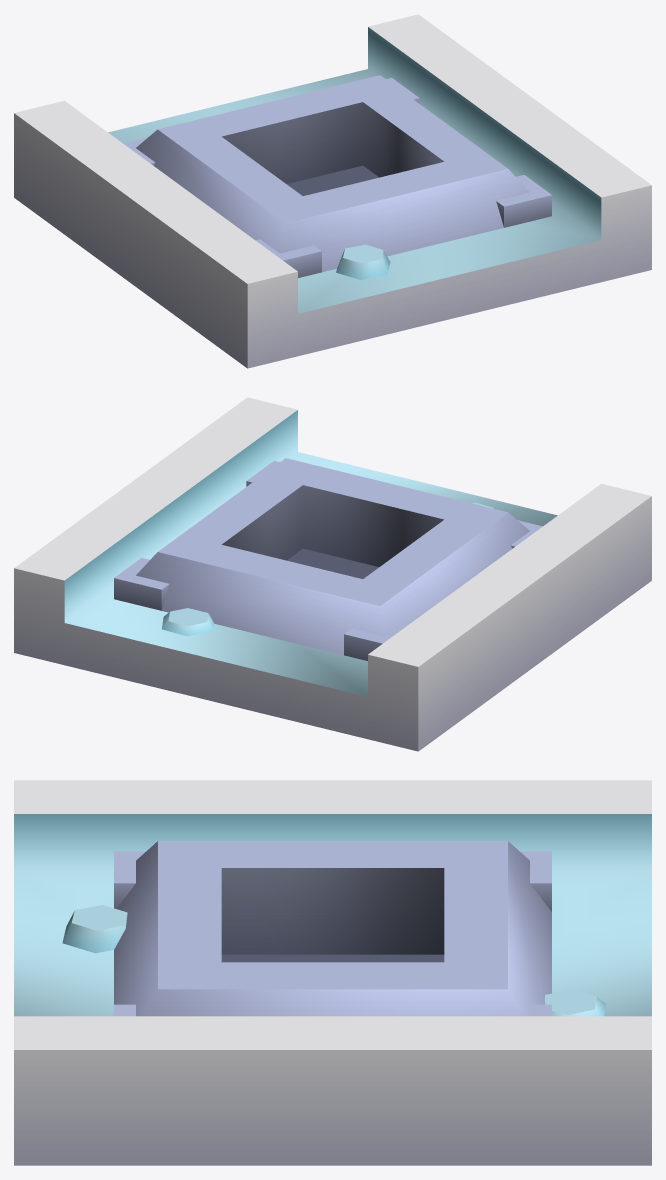
The model's file is snow-tile-spawn.fbx.
3 views of the same model, one above another, from view 1: azimuth 30°, elevation 25°; view 2: azimuth 150°, elevation 25°; view 3: azimuth 270°, elevation 25° (orthographic). The views are drawn at different scales.
Parts seen in each view (by area): view 1: snow-tile-spawn; view 2: snow-tile-spawn; view 3: snow-tile-spawn.
Boxes of the visible parts, x1,y1,x2,y2 form: snow-tile-spawn: [14, 14, 651, 368]; snow-tile-spawn: [14, 397, 651, 751]; snow-tile-spawn: [14, 780, 651, 1165].
Size of the model in its own units: 100 by 20 by 100.
